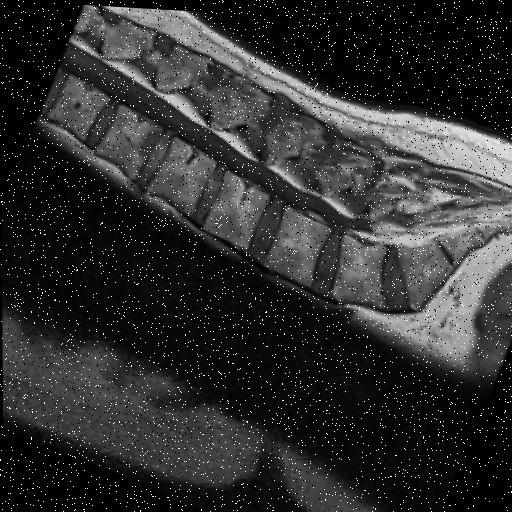L1: (96, 103, 163, 178)
L2: (146, 135, 217, 213)
L3: (203, 168, 269, 246)
L4: (264, 204, 333, 282)
L5: (334, 230, 388, 304)
S1: (398, 234, 454, 304)
